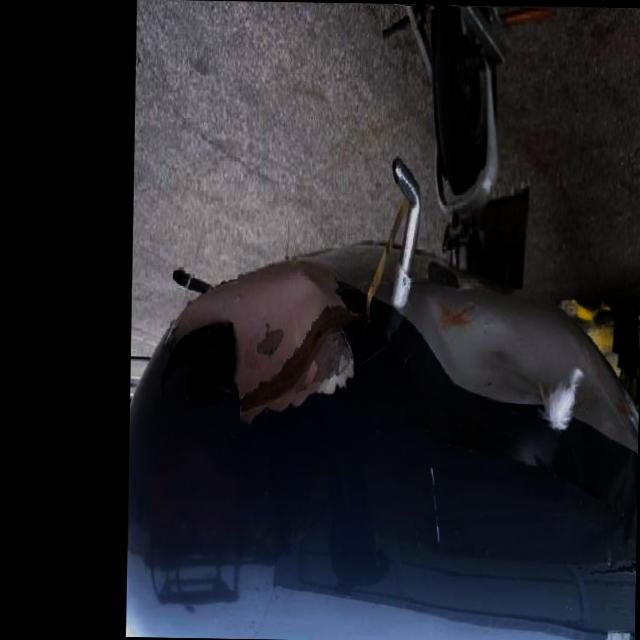crack: (206, 420, 248, 444)
dent: (422, 295, 550, 406), (238, 266, 328, 406)
